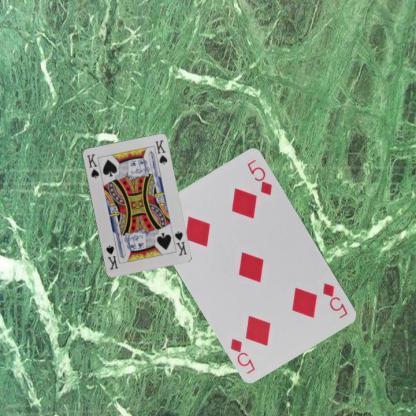5d: (320, 280, 350, 320)
Ks: (84, 150, 100, 180), (172, 228, 188, 257)
